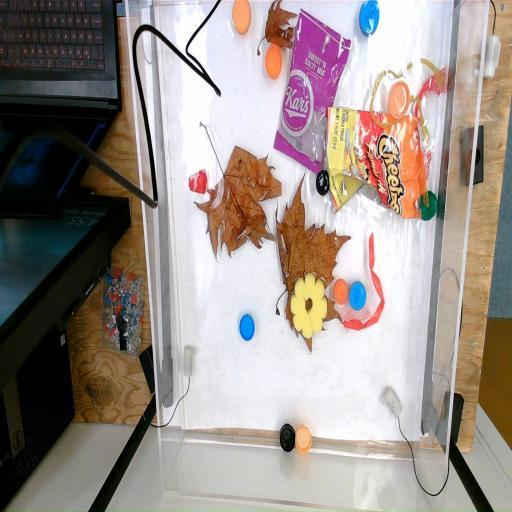Bottle Cap: (353, 0, 383, 39), (387, 82, 414, 120), (264, 40, 284, 83), (230, 0, 252, 33), (292, 425, 316, 454), (417, 192, 440, 218), (313, 170, 334, 198), (333, 274, 351, 305), (280, 421, 296, 455), (348, 280, 366, 310), (238, 313, 256, 342)
Cone Cap: (184, 170, 212, 196)
Leaf: (274, 170, 353, 358), (195, 118, 282, 266), (258, 0, 298, 66)
Netting: (412, 58, 449, 186), (336, 296, 380, 331)
Plastic Bag: (272, 7, 354, 175), (323, 106, 431, 222)
Plastic Strand: (368, 55, 450, 141), (343, 232, 387, 336)
Sponge: (289, 270, 331, 340)
